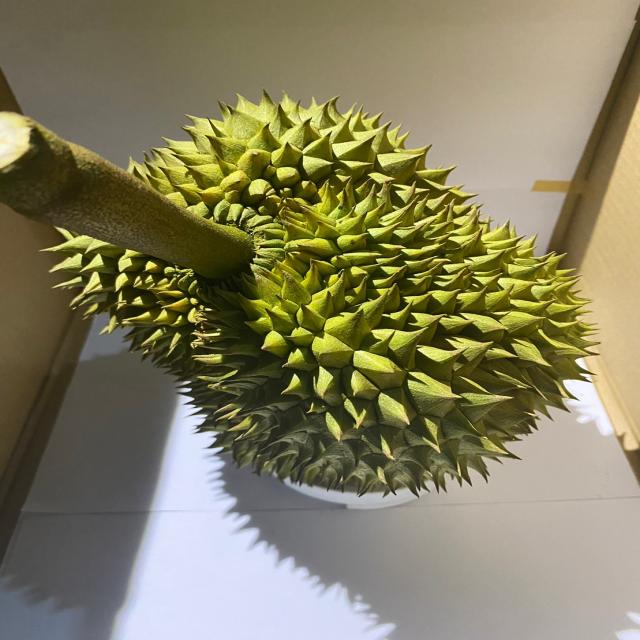immature: (39, 82, 604, 506)
